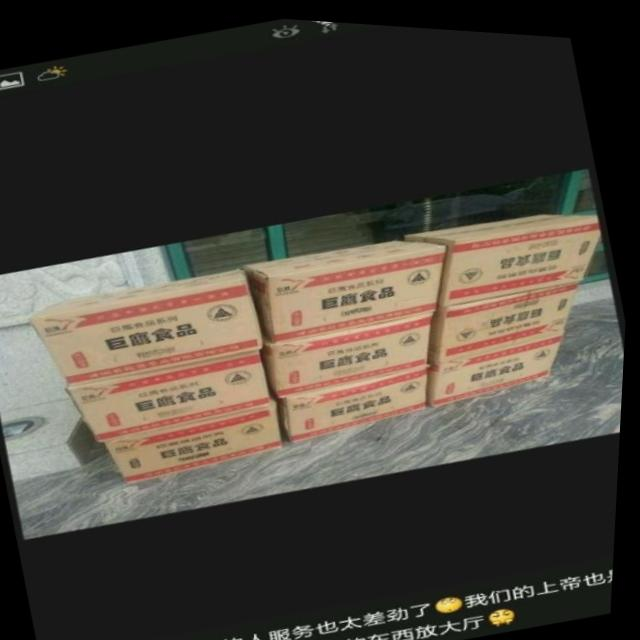box: (30, 264, 267, 385), (248, 233, 447, 338), (70, 344, 276, 441), (407, 206, 604, 299), (108, 395, 288, 482), (263, 305, 436, 394), (432, 274, 581, 356), (283, 361, 432, 437), (432, 325, 567, 401)
